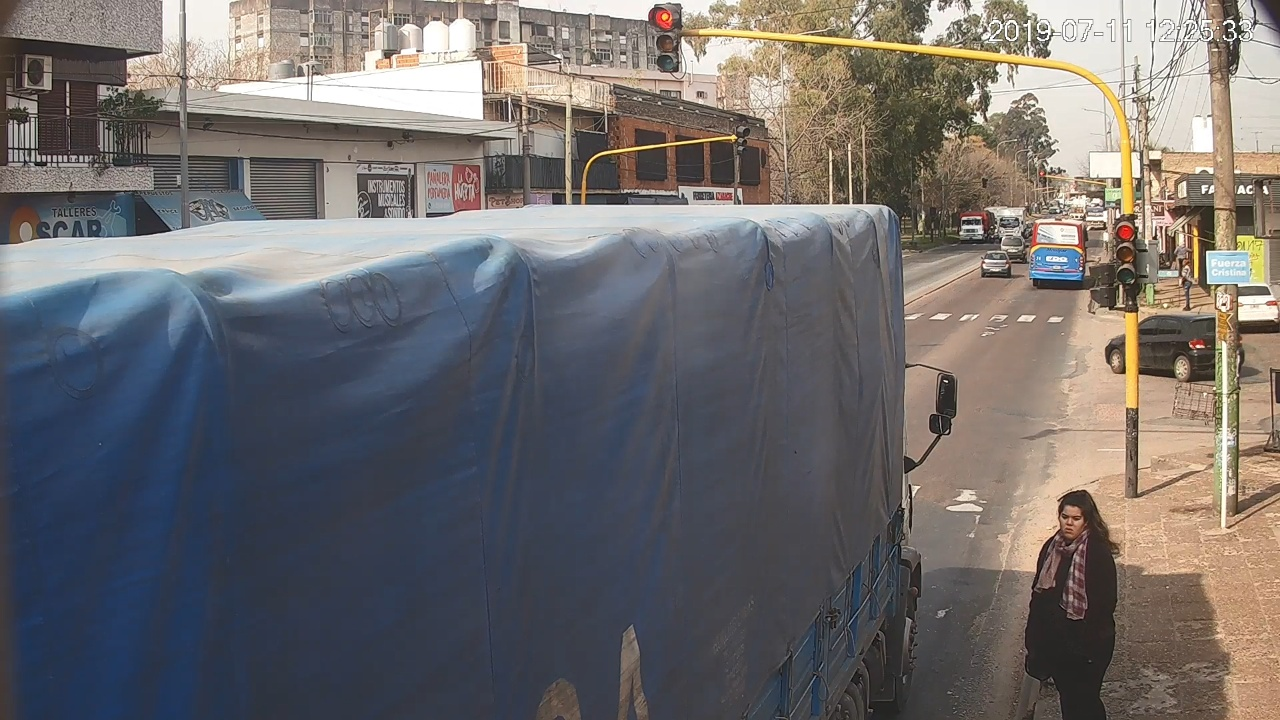person: (1023, 490, 1117, 720)
traffic light: (652, 4, 680, 72), (1116, 218, 1134, 284)
truck: (5, 204, 959, 720)
